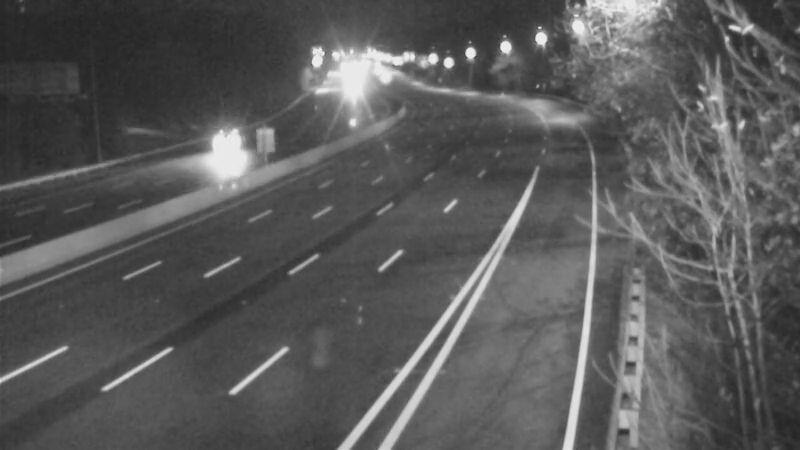vehicle: (206, 115, 256, 165)
